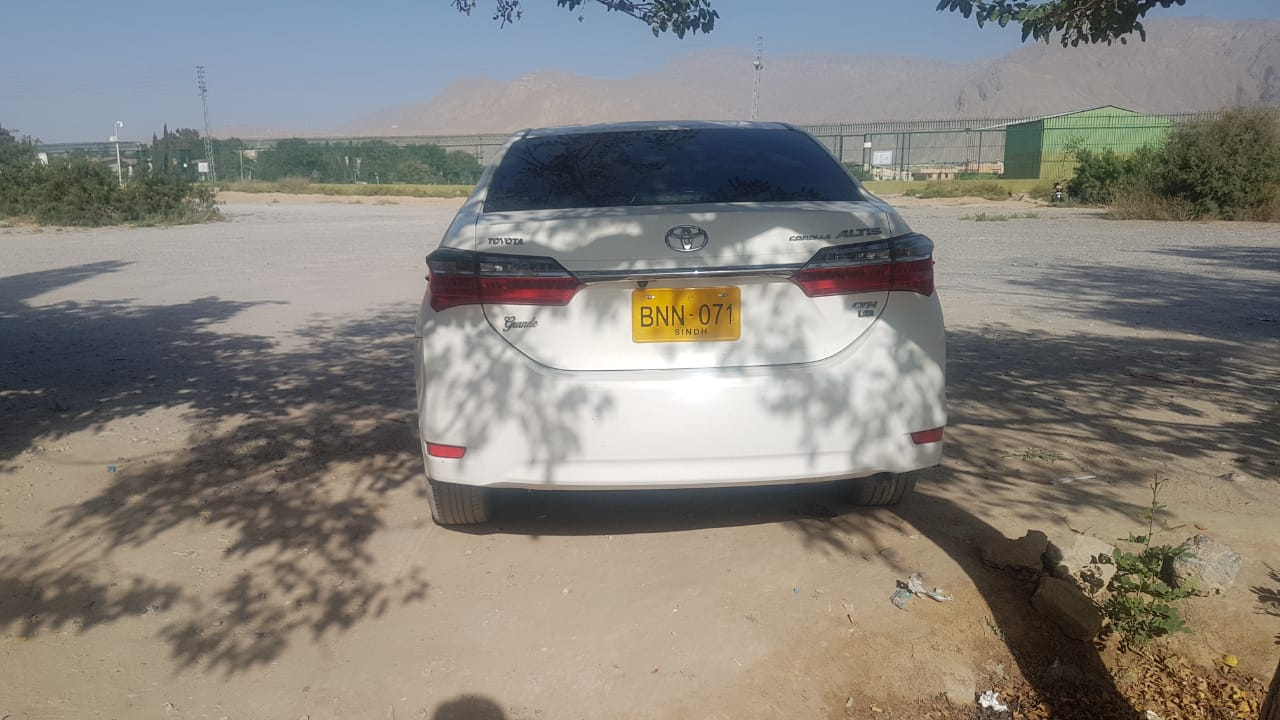license plate: (632, 289, 743, 341)
